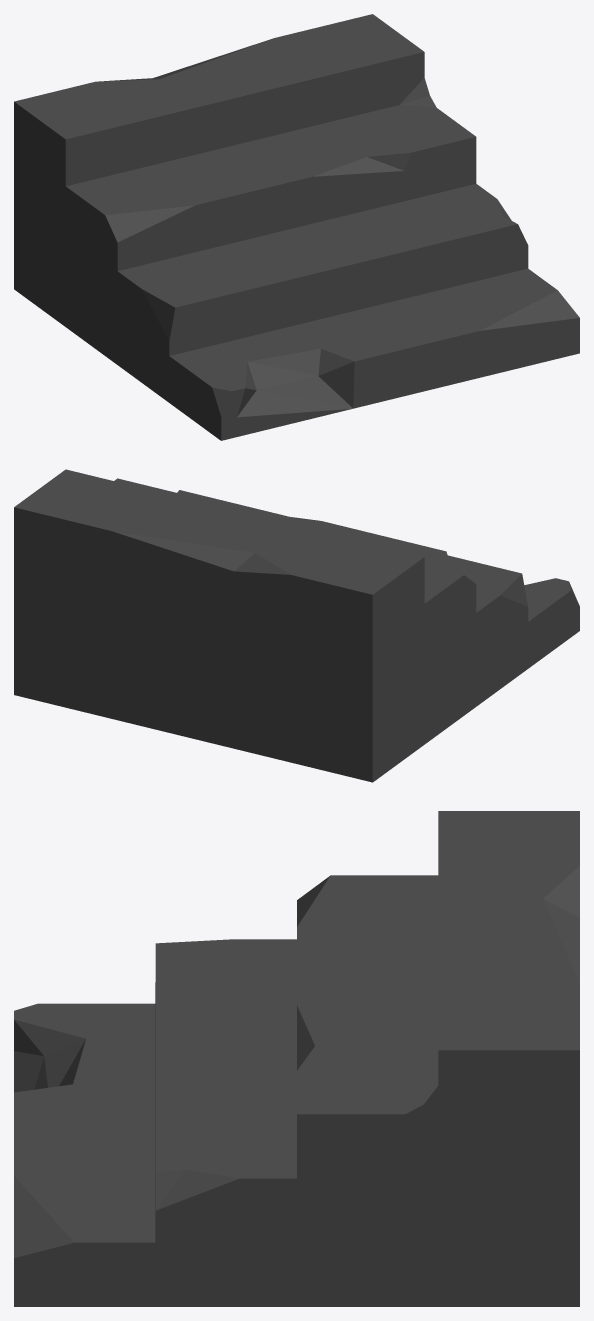
Rendered from Stair_01.fbx.
3 views of the same model, one above another, from view 1: azimuth 30°, elevation 25°; view 2: azimuth 150°, elevation 25°; view 3: azimuth 270°, elevation 25° (orthographic). The views are drawn at different scales.
Parts seen in each view (by area): view 1: Stair_01; view 2: Stair_01; view 3: Stair_01.
Boxes of the visible parts, x1,y1,x2,y2 form: Stair_01: (14, 14, 579, 440); Stair_01: (14, 469, 579, 782); Stair_01: (14, 811, 579, 1306).
Size of the model in its own units: 400 by 200 by 400.
1 material, 1 textured.
